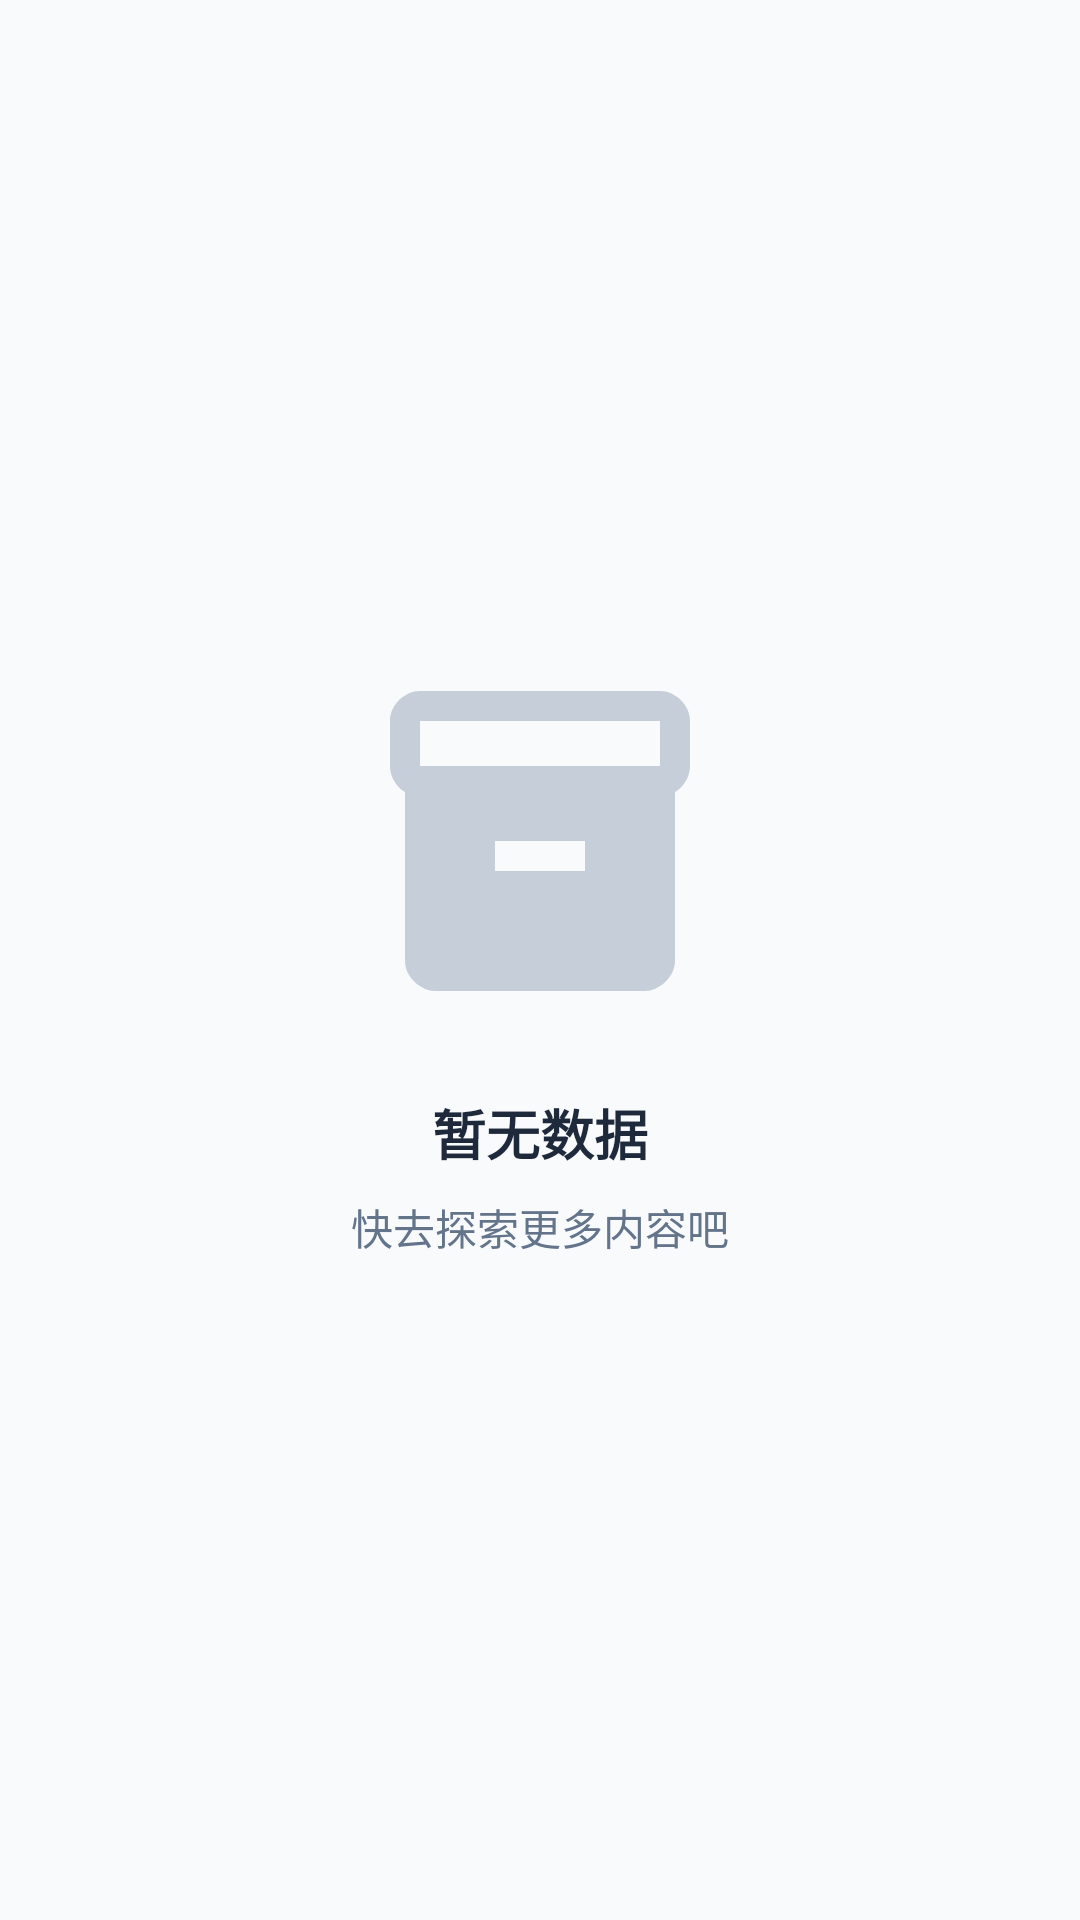

Icons on this 1080×1920 Android screen, each with the point to tap as (x,y):
empty box: (540,841)
